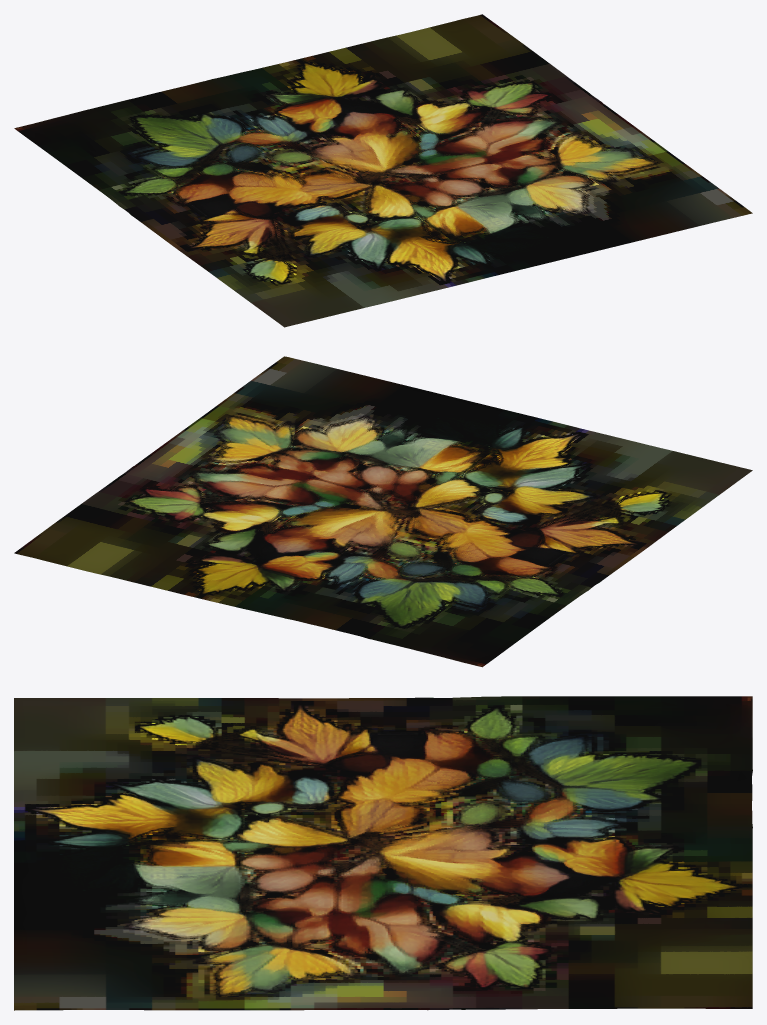
Rendered from pressed-leaf-board-game-vintage.jpeg.glb.
3 views of the same model, one above another, from view 1: azimuth 30°, elevation 25°; view 2: azimuth 150°, elevation 25°; view 3: azimuth 270°, elevation 25° (orthographic). The views are drawn at different scales.
Visible parts, largest first — view 1: world; view 2: world; view 3: world.
Part boxes in pixels (box(x1,y1,x2,y2)): world: box(14, 14, 752, 327); world: box(14, 356, 752, 667); world: box(14, 696, 752, 1010).
Bounding box in the file's own units: 1 × 0.00816 × 1.
1 material, 1 textured.
